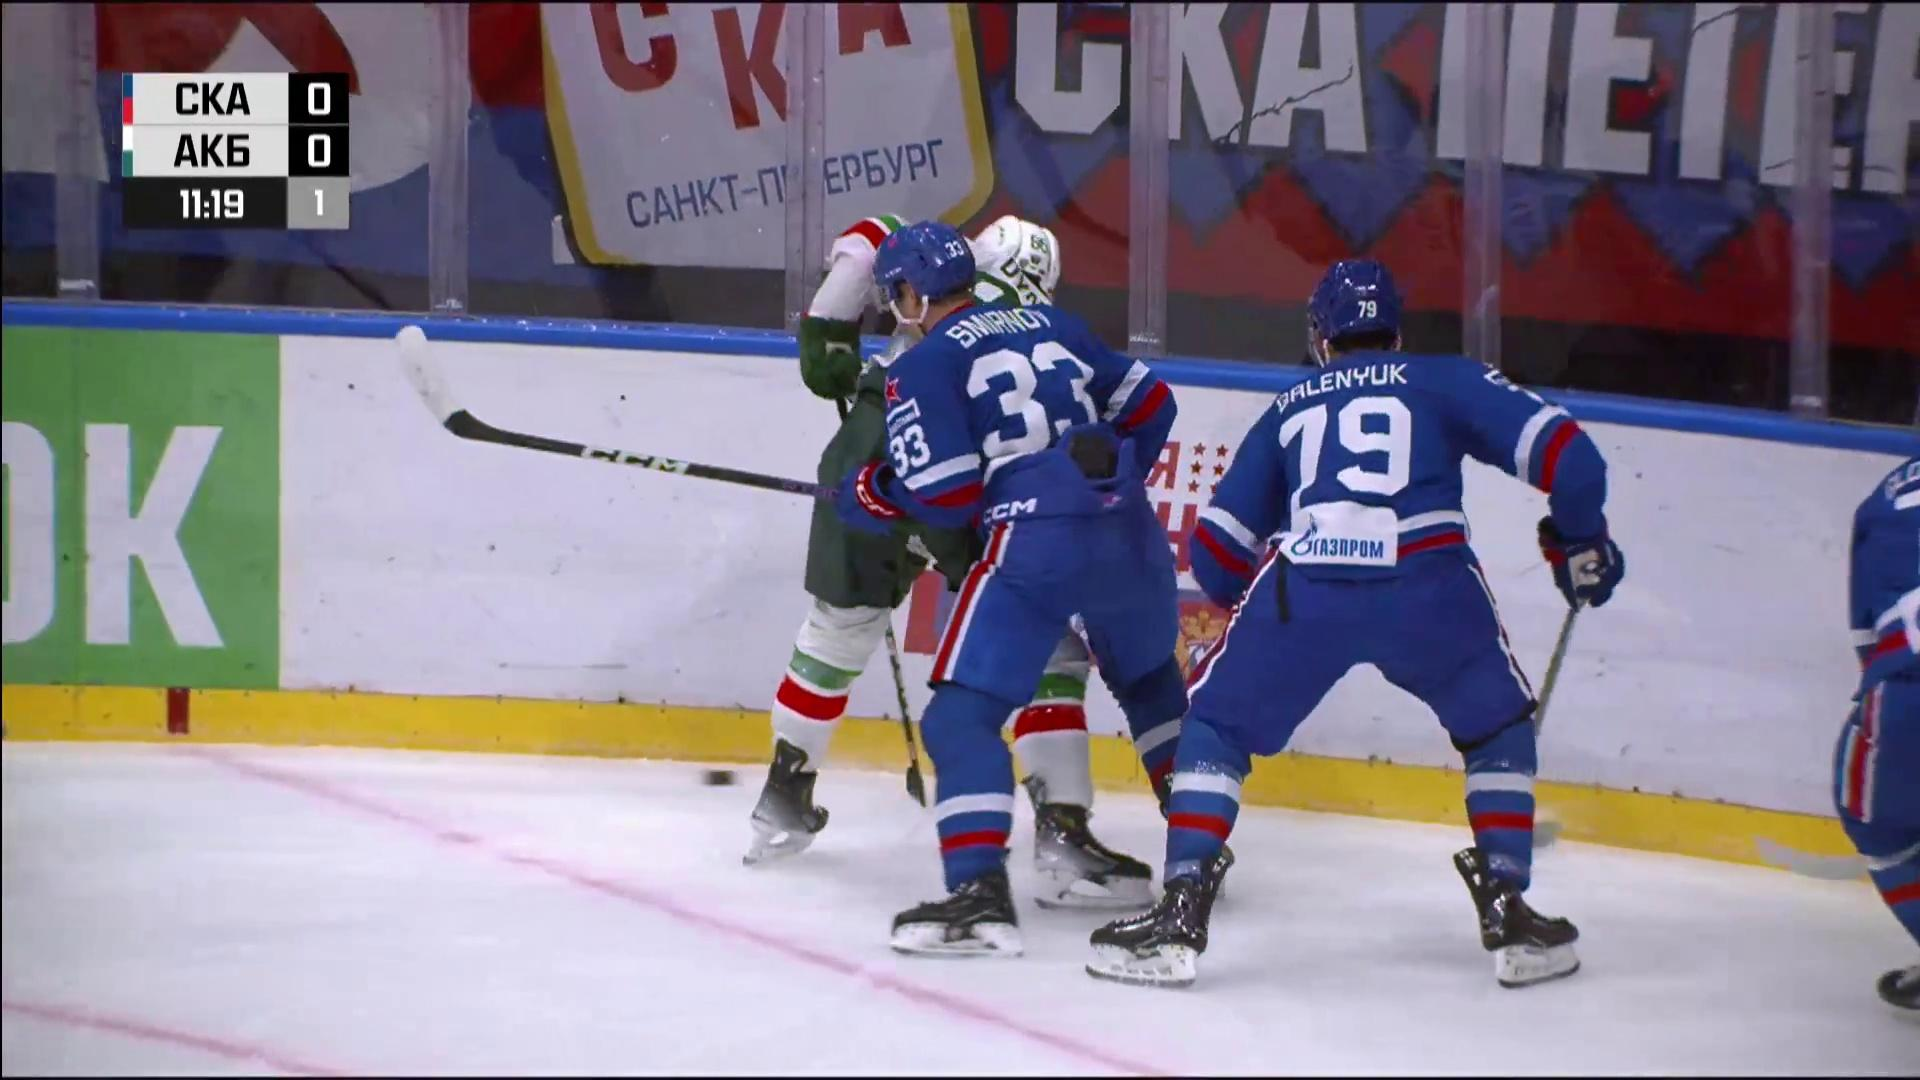ball: (700, 770, 738, 786)
